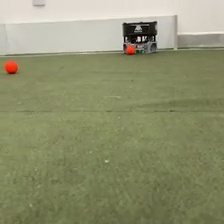ball: (4, 59, 19, 73), (126, 43, 137, 54)
goal: (1, 11, 179, 57)
robot: (121, 19, 160, 55)
